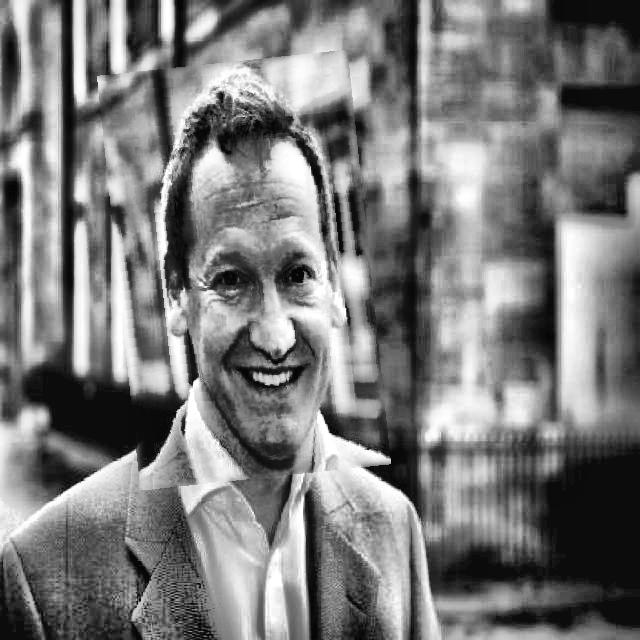happy: (107, 55, 381, 484)
